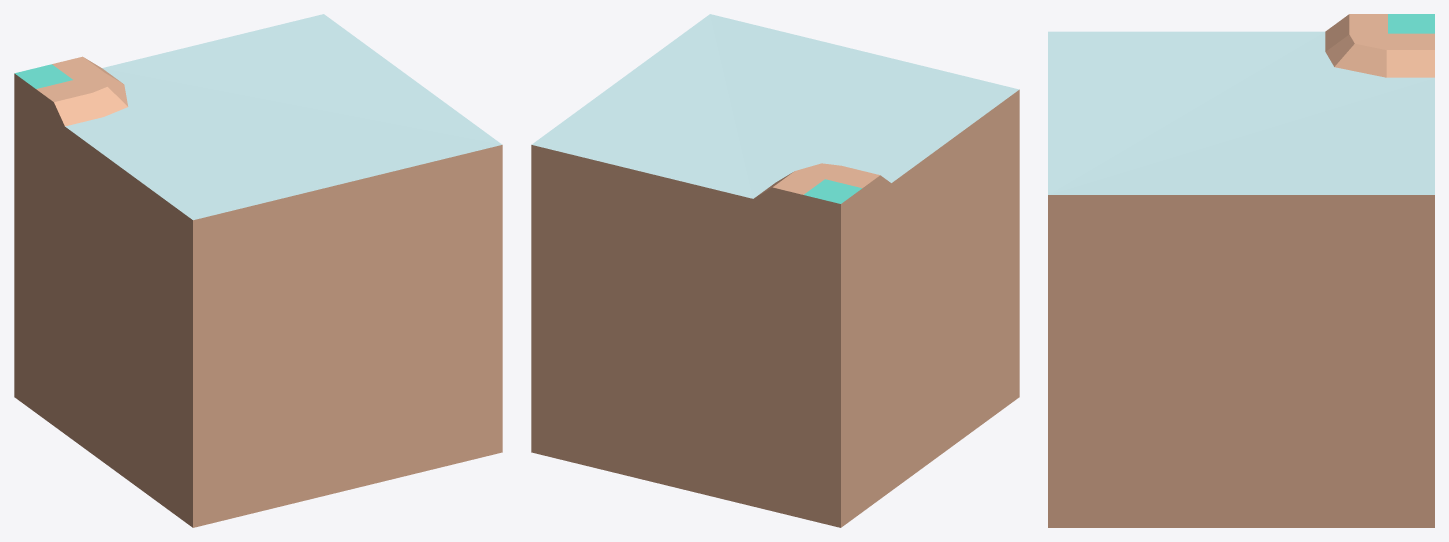
File: blockRiverTip.fbx
The picture shows the model from 3 angles, left to right: view 1: azimuth 30°, elevation 25°; view 2: azimuth 150°, elevation 25°; view 3: azimuth 270°, elevation 25°; orthographic projection. The views are drawn at different scales.
Parts seen in each view (by area): view 1: blockRiverTip; view 2: blockRiverTip; view 3: blockRiverTip.
Boxes of the visible parts, bbox=[...] form: blockRiverTip: bbox=[14, 14, 502, 527]; blockRiverTip: bbox=[531, 14, 1019, 527]; blockRiverTip: bbox=[1048, 14, 1434, 527].
Size of the model in its own units: 1 by 1 by 1.
